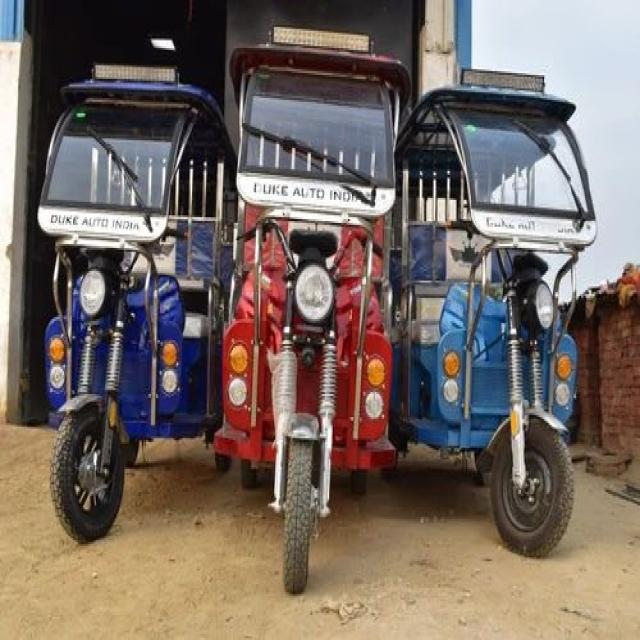rickshaw: (200, 28, 434, 623), (0, 68, 249, 586), (402, 16, 608, 595)
